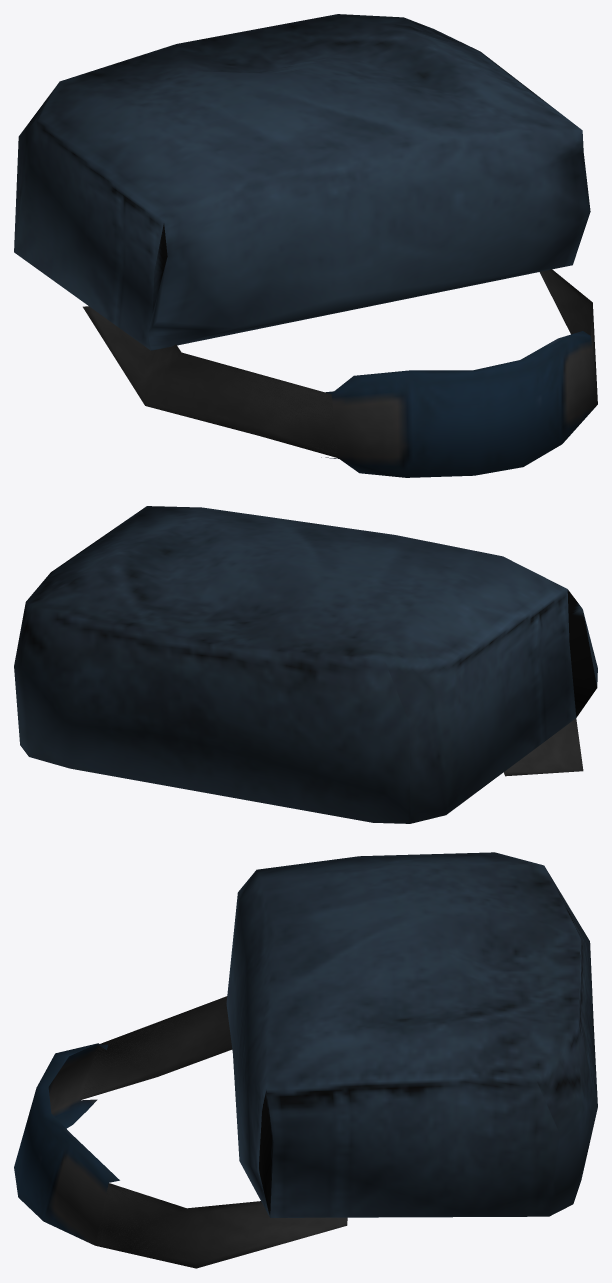
The model's file is Sumk_1_Osn_Ground.fbx.
3 views of the same model, one above another, from view 1: azimuth 30°, elevation 25°; view 2: azimuth 150°, elevation 25°; view 3: azimuth 270°, elevation 25° (orthographic).
Parts seen in each view (by area): view 1: Body.010; view 2: Body.010; view 3: Body.010.
Part boxes in pixels (<box>): Body.010: <box>14,14,597,477</box>; Body.010: <box>14,506,597,823</box>; Body.010: <box>14,852,597,1268</box>.
Size of the model in its own units: 0.1889 by 0.1026 by 0.2142.
